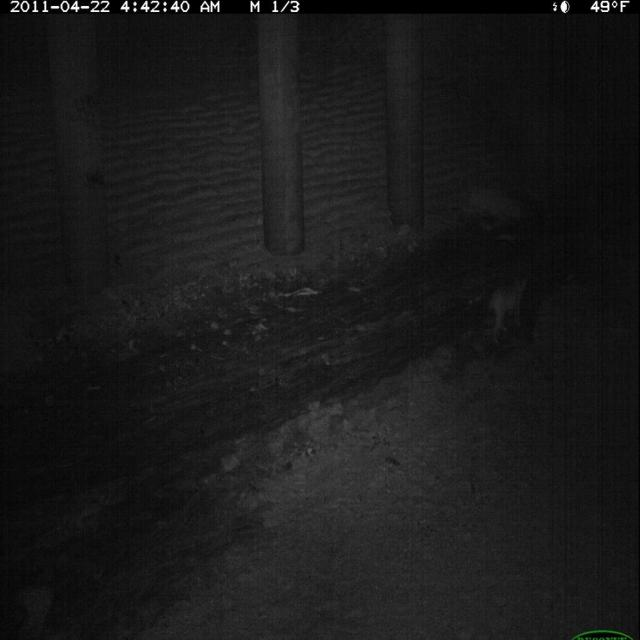bobcat: (483, 268, 535, 351)
